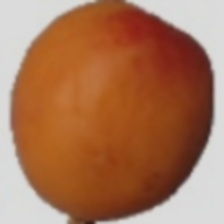apricot: (28, 47, 182, 209)
